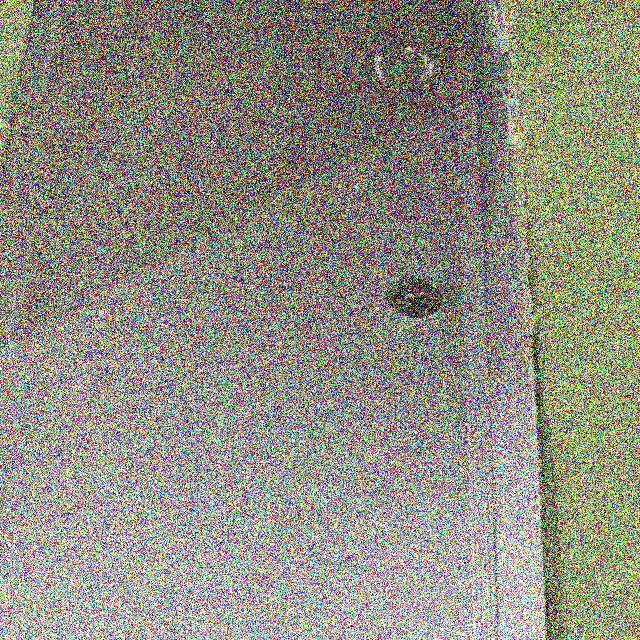phillips: (392, 282, 443, 319)
